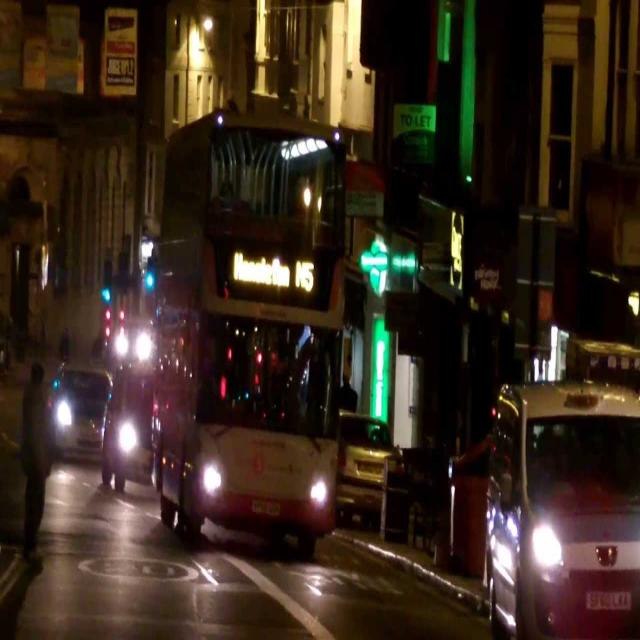Bus: (149, 75, 354, 602)
People: (19, 351, 62, 562)
car: (482, 353, 640, 640), (105, 362, 169, 502), (48, 356, 125, 456), (332, 411, 396, 513)
